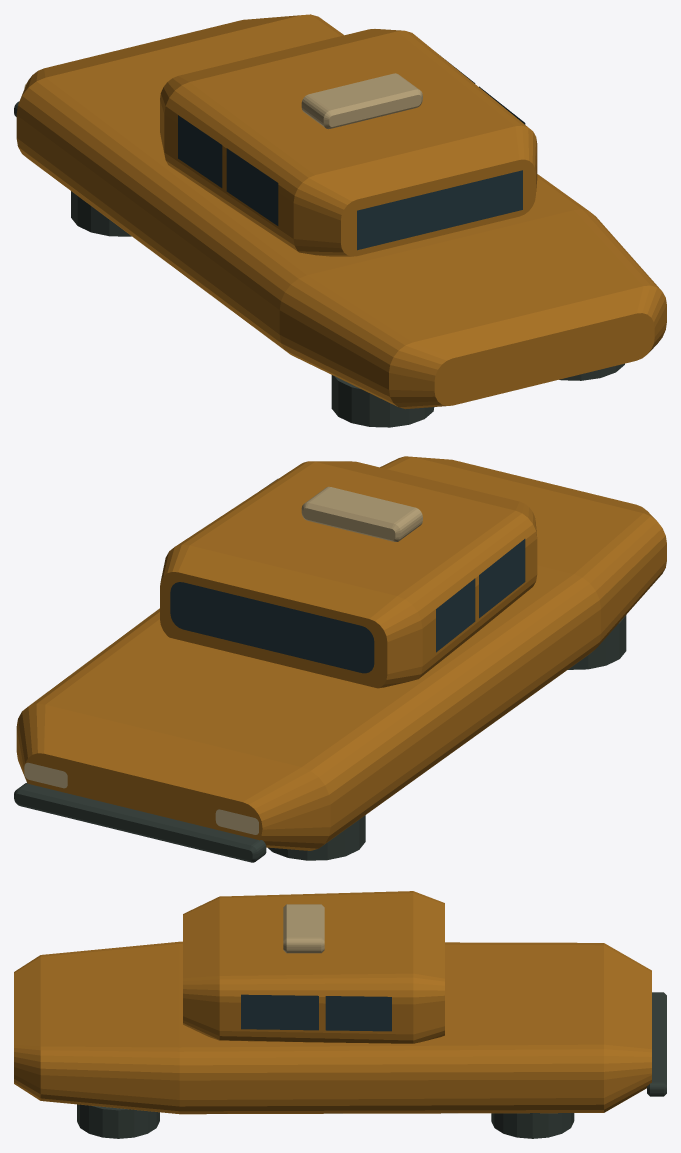
The model's file is hover_vehicle.obj.
3 renders of one model, top to bottom at view 1: azimuth 30°, elevation 25°; view 2: azimuth 150°, elevation 25°; view 3: azimuth 270°, elevation 25°, orthographic. The views are drawn at different scales.
Parts seen in each view (by area): view 1: body, cabin, rear_glass, side_glass, lift_pods, roof_sign; view 2: body, cabin, front_glass, front_bumper, roof_sign, side_glass, lift_pods, headlights; view 3: body, cabin, side_glass, lift_pods, roof_sign, front_bumper.
Part boxes in pixels (x1=…): body: x1=16, y1=14, x2=666, y2=409; cabin: x1=160, y1=29, x2=537, y2=256; rear_glass: x1=357, y1=170, x2=522, y2=250; side_glass: x1=178, y1=55, x2=525, y2=225; lift_pods: x1=71, y1=191, x2=624, y2=427; roof_sign: x1=301, y1=73, x2=422, y2=129; body: x1=16, y1=456, x2=666, y2=850; cabin: x1=160, y1=461, x2=537, y2=688; front_glass: x1=170, y1=582, x2=374, y2=673; front_bumper: x1=14, y1=783, x2=266, y2=862; roof_sign: x1=301, y1=486, x2=422, y2=541; side_glass: x1=268, y1=479, x2=525, y2=652; lift_pods: x1=268, y1=615, x2=626, y2=860; headlights: x1=24, y1=762, x2=258, y2=834; body: x1=14, y1=941, x2=651, y2=1114; cabin: x1=183, y1=891, x2=444, y2=1043; side_glass: x1=241, y1=994, x2=391, y2=1031; lift_pods: x1=77, y1=1104, x2=574, y2=1138; roof_sign: x1=283, y1=904, x2=324, y2=953; front_bumper: x1=647, y1=992, x2=666, y2=1096.
Bounding box in the file's own units: 1.78 × 1.1 × 3.94.
